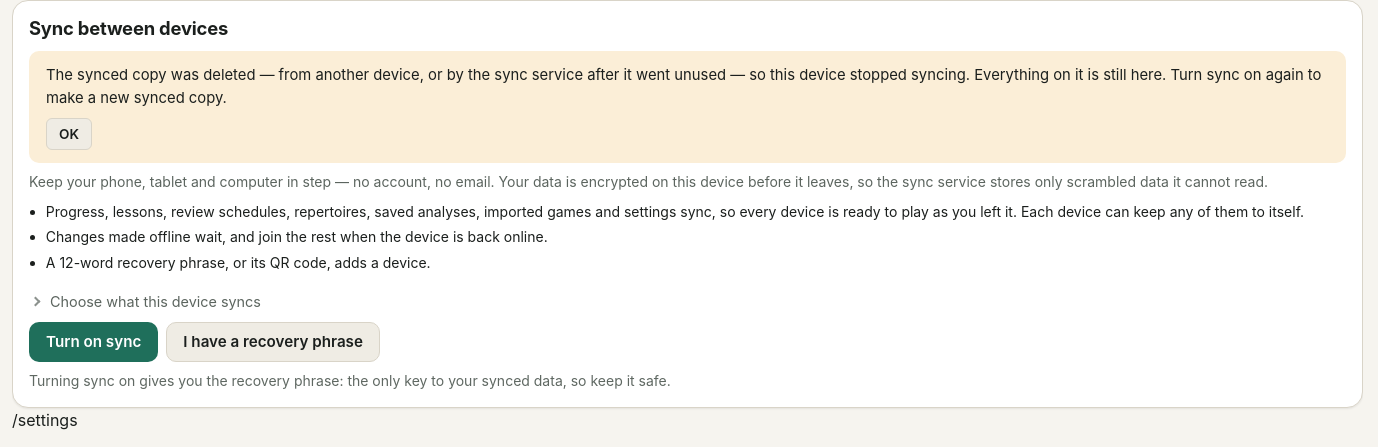
Test: Settings → Sync between devices › says when sync stopped because the synced copy was deleted
Expected: the text with test id "sync-stopped" shows "The synced copy was deleted", [46, 66, 1321, 107]
Click the button "OK": (69, 134) [46, 118, 92, 150]
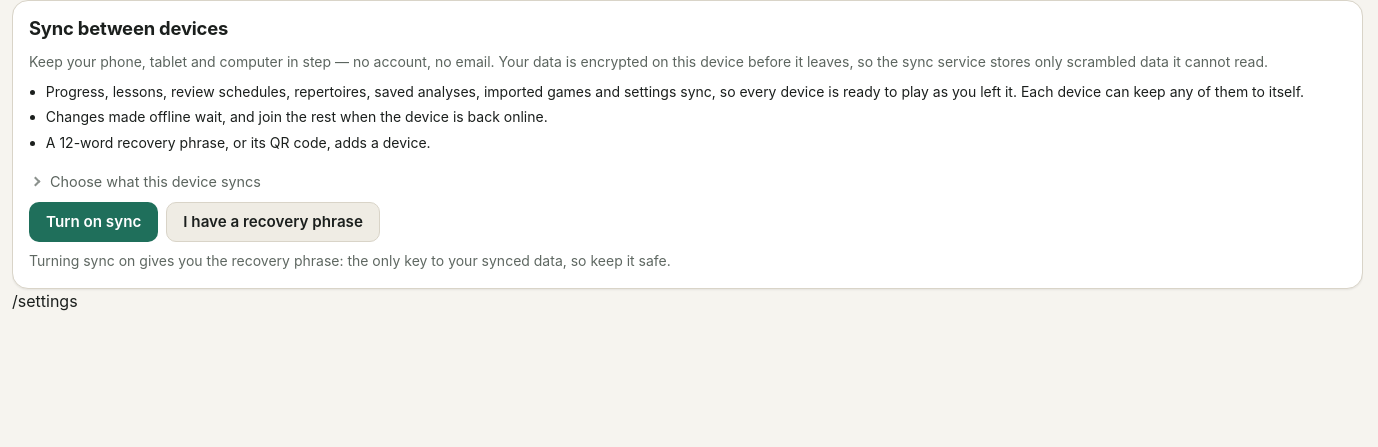
Result: the text with test id "sync-stopped" is gone
